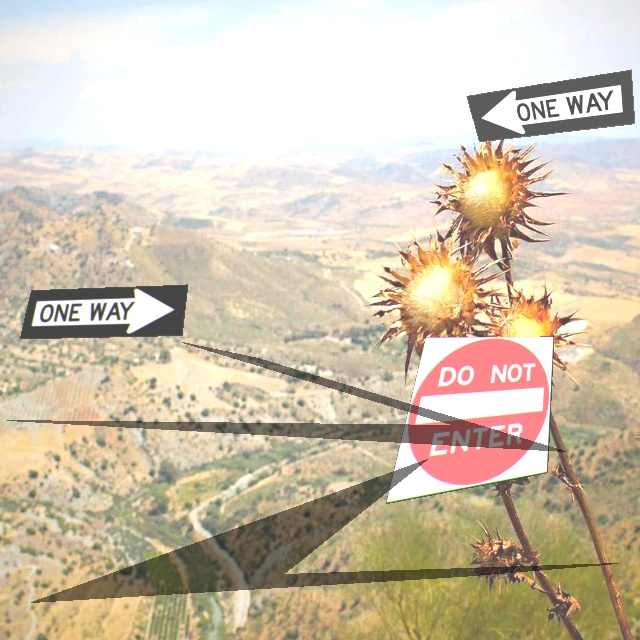DO_NOT_ENTER: (385, 336, 554, 504)
ONE_WAY_ left: (466, 69, 635, 142)
ONE_WAY_ right: (19, 284, 188, 339)
